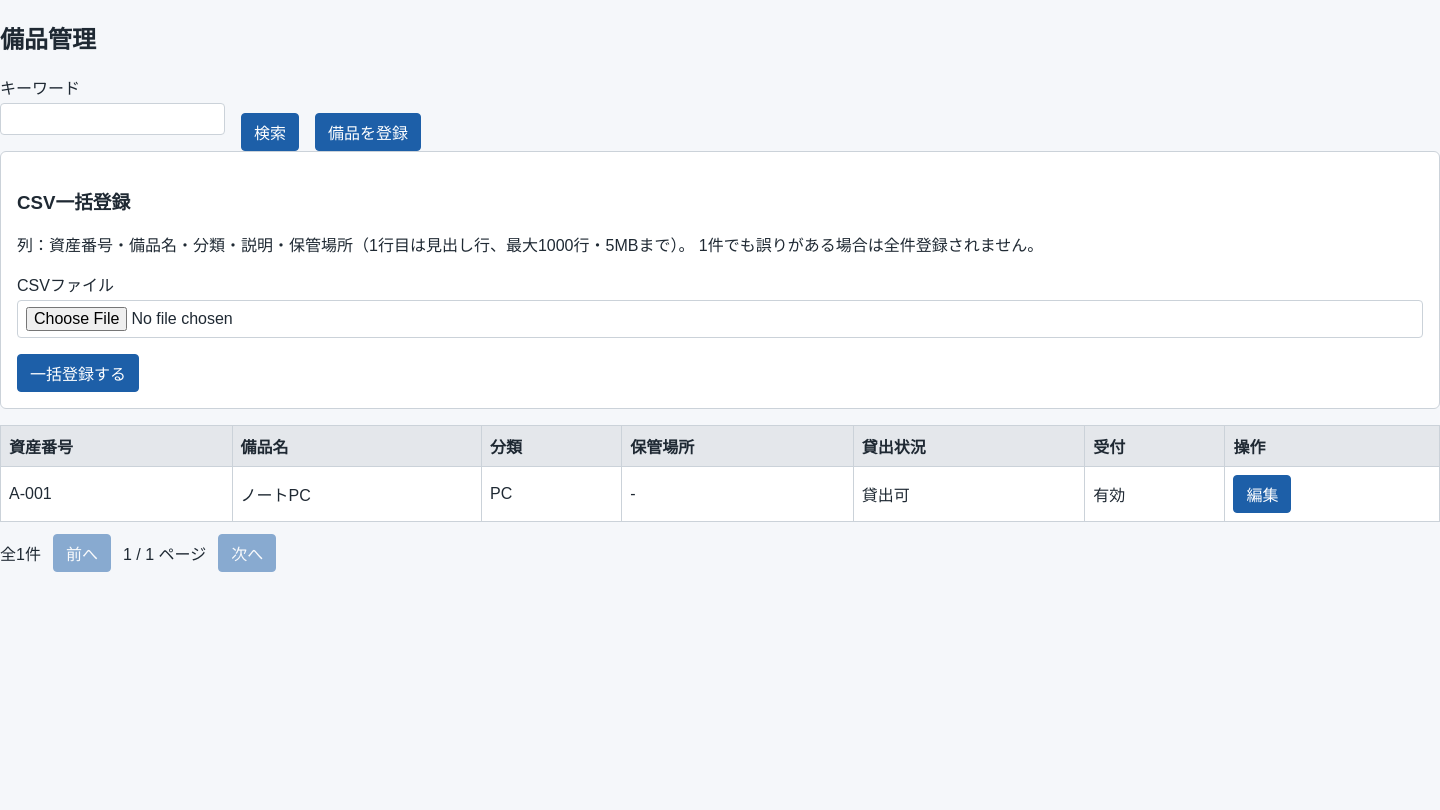
Test case: 備品管理画面 › 項番16：編集時は資産番号の入力欄が編集不可になる
The image size is (1440, 810).
Step 1. Click the button "編集" → (1262, 494), box [1234,475,1292,513]
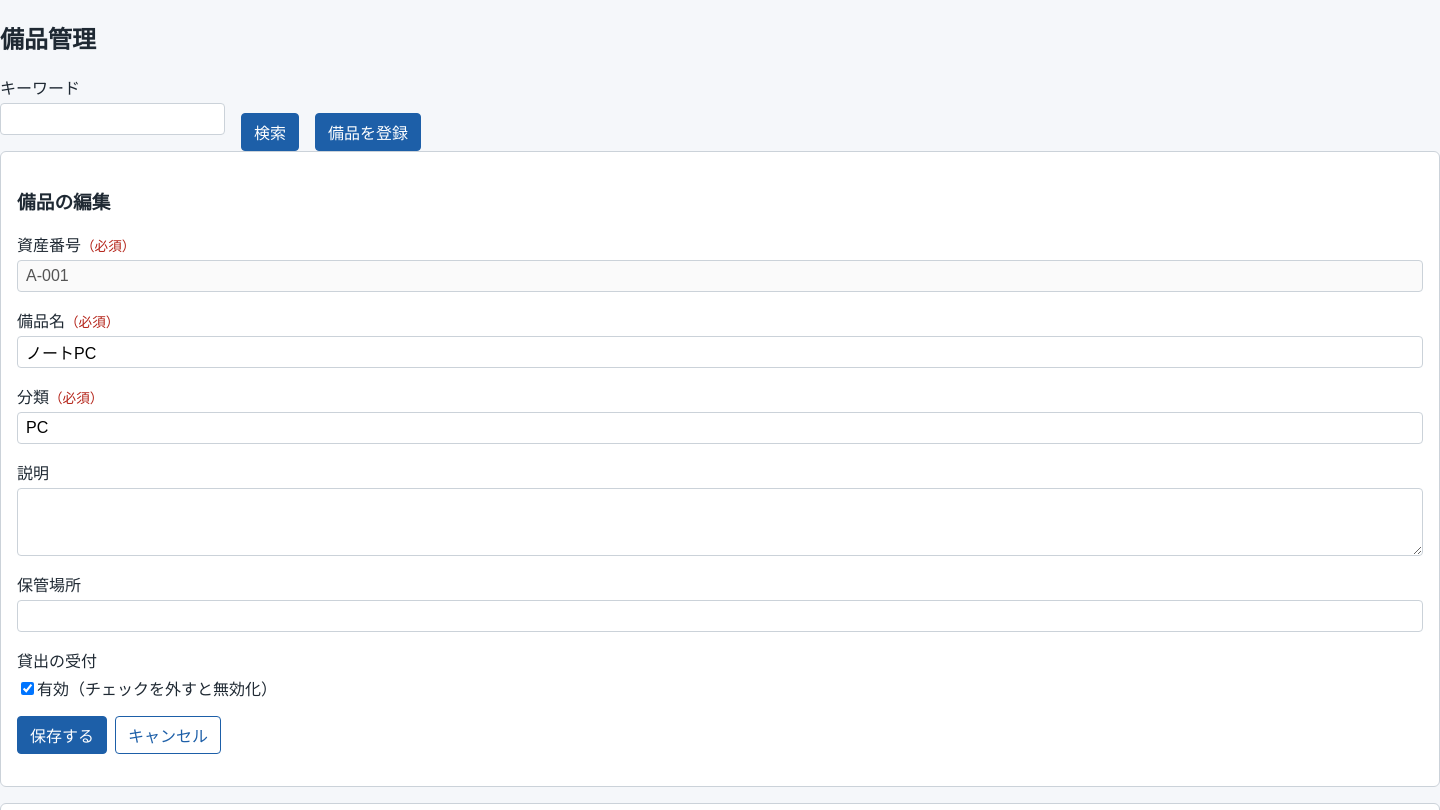
Expected: the field labelled "資産番号（必須）" is disabled, [17,260,1423,292]
